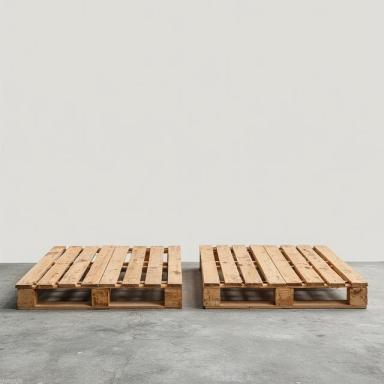pallet: (199, 245, 369, 309), (15, 245, 182, 309), (110, 288, 164, 301), (38, 289, 92, 301)
